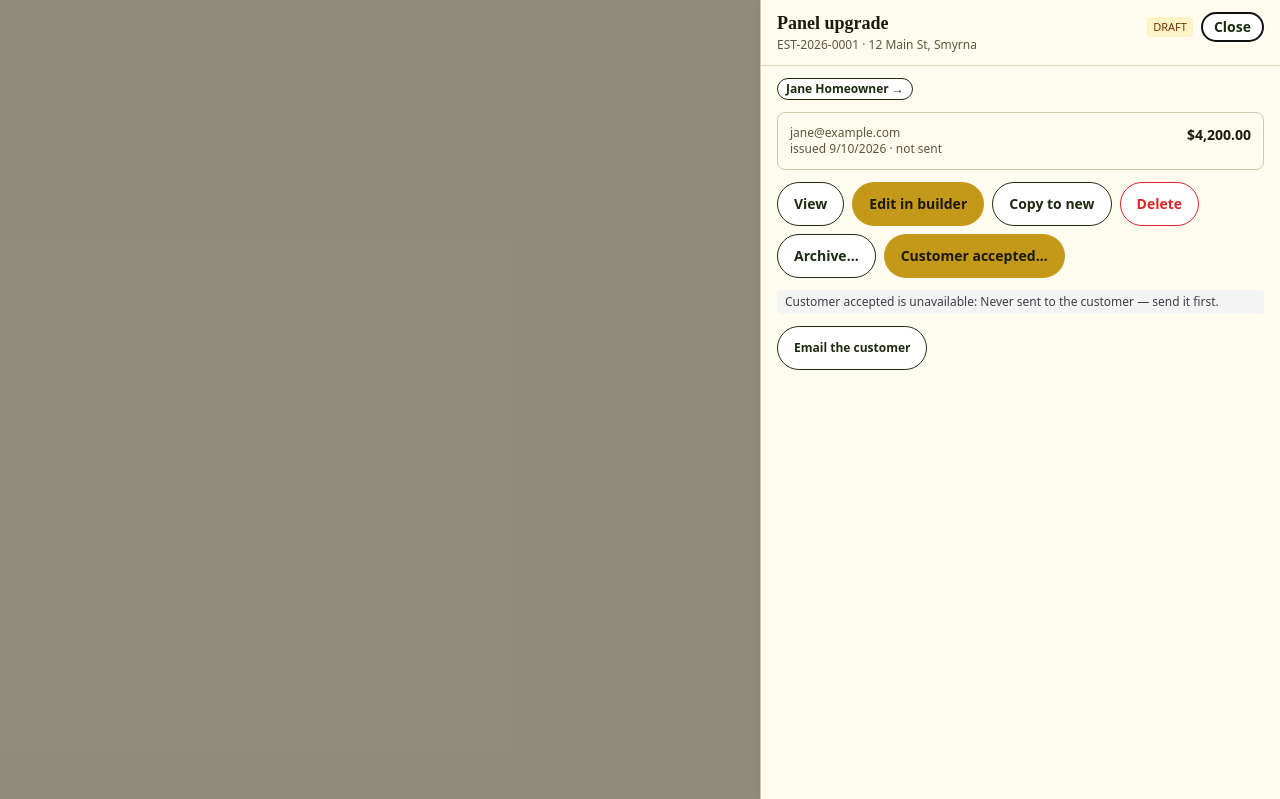
EstimateDrawer — the ONE email control (Estimate · Financing link · Message) › is also on a never-sent draft estimate (nothing needs to be sent first)
Click the button "Email the customer": (852, 348) [777,326,928,370]
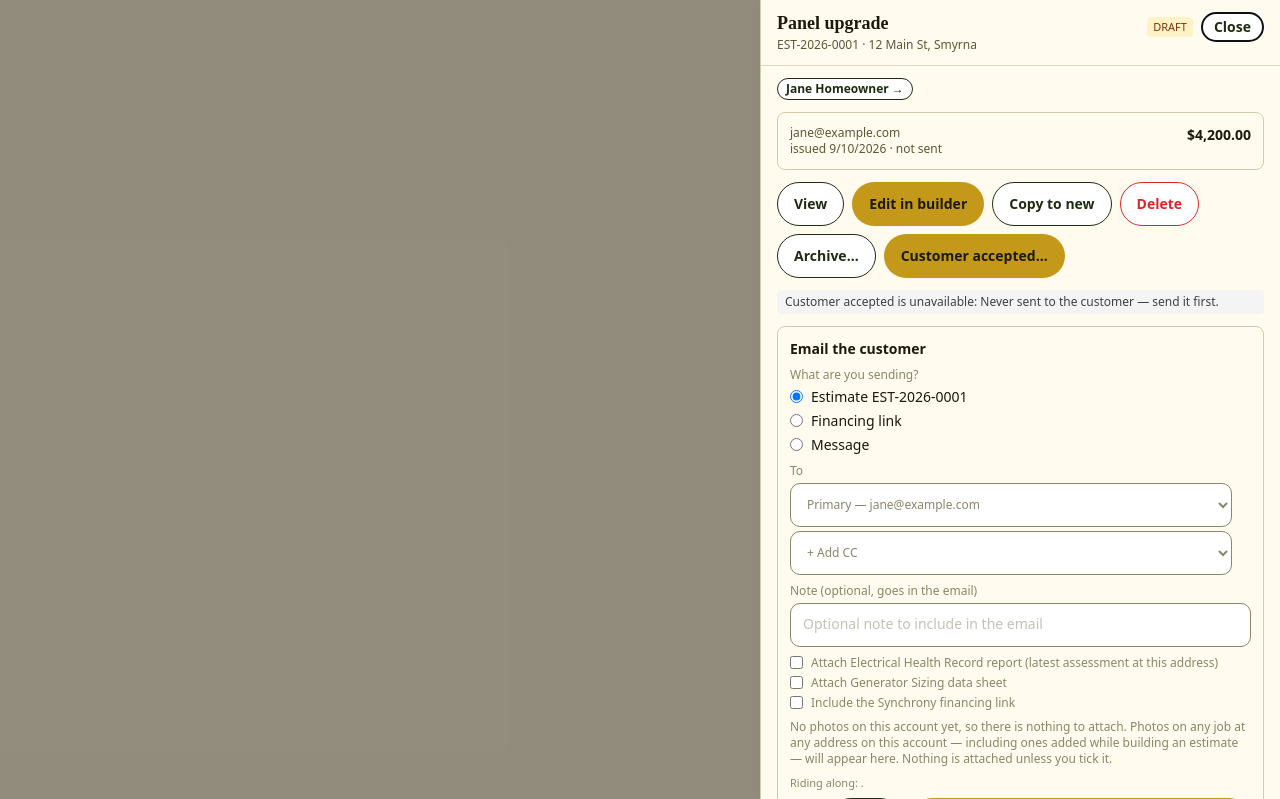
Check: the radio button labelled "Financing link" is enabled, box [790,414,803,427]
Check: the radio button labelled "Estimate EST-2026-0001" is enabled, box [790,390,803,403]
